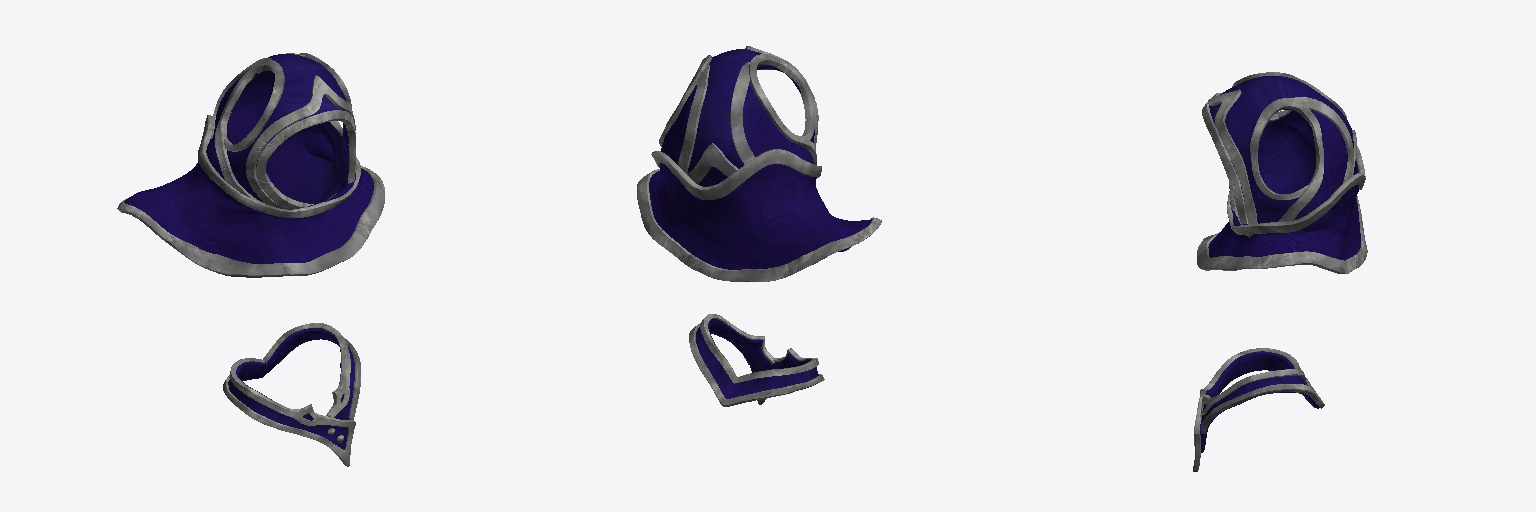
The picture shows the model from 3 angles: view 1: azimuth 30°, elevation 25°; view 2: azimuth 150°, elevation 25°; view 3: azimuth 270°, elevation 25°; orthographic projection.
Visible parts, largest first — view 1: Group12417, Group12357, Group12447, Group12462, Group12477, Group12492, Group12402, Group12372, Group12432; view 2: Group12417, Group12357, Group12447, Group12477, Group12387, Group12462, Group12432, Group12492, Group12507; view 3: Group12357, Group12417, Group12462, Group12447, Group12507, Group12477, Group12432, Group12372, Group12402, Group12387.
Part boxes in pixels (x1,y1,x2,y2): Group12417: (124,134,373,263); Group12357: (206,54,348,203); Group12447: (117,166,384,277); Group12462: (223,323,360,466); Group12477: (228,328,354,449); Group12492: (215,60,284,203); Group12402: (256,110,355,209); Group12372: (246,75,355,209); Group12432: (198,115,360,217); Group12417: (649,163,871,269); Group12357: (660,49,814,186); Group12447: (637,169,881,281); Group12477: (696,319,818,398); Group12387: (678,62,755,183); Group12462: (689,314,824,406); Group12432: (651,149,821,199); Group12492: (749,54,816,165); Group12507: (659,55,711,146); Group12357: (1209,76,1353,231); Group12417: (1208,161,1360,260); Group12462: (1193,348,1324,471); Group12447: (1197,196,1367,273); Group12507: (1250,98,1323,221); Group12477: (1200,351,1319,452); Group12432: (1227,146,1365,234); Group12372: (1208,89,1257,237); Group12402: (1202,102,1248,236); Group12387: (1280,74,1356,182).
Size of the model in its own units: 1.55 by 2.32 by 0.9602.
1 materials, 1 textured.